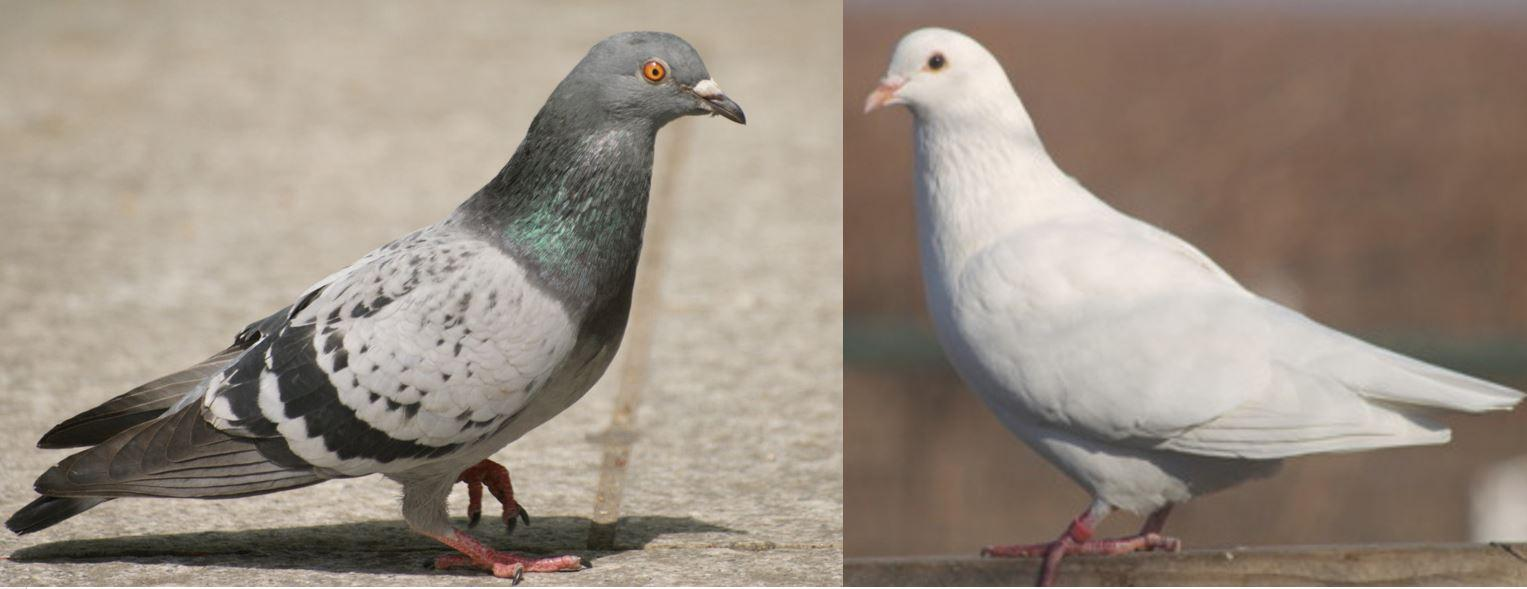Flying Rat: (22, 12, 764, 563), (859, 26, 1511, 554)
